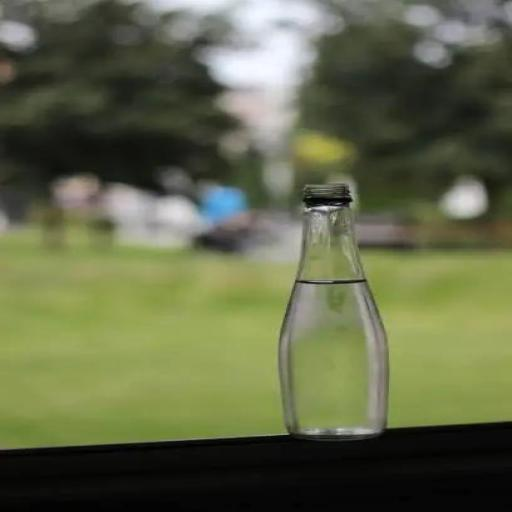bottle: (271, 174, 399, 443)
